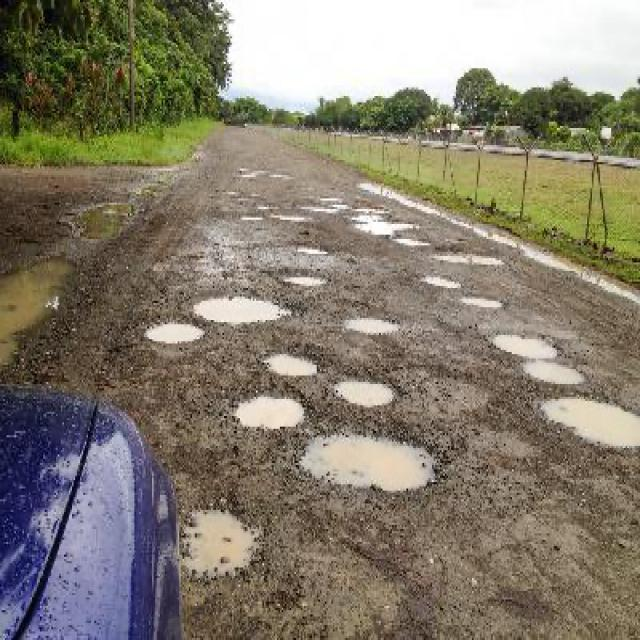pothole: (298, 427, 441, 495), (178, 506, 261, 583), (540, 395, 639, 451), (234, 391, 307, 431), (192, 297, 296, 323), (488, 331, 560, 363), (333, 376, 394, 408), (261, 350, 320, 382), (523, 361, 587, 389), (144, 321, 207, 346), (434, 246, 503, 265), (344, 316, 399, 338), (352, 218, 418, 235), (274, 271, 330, 288), (418, 273, 463, 288), (461, 295, 504, 310), (391, 235, 432, 248), (293, 243, 330, 256)
